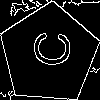C: (24, 29, 71, 68)
